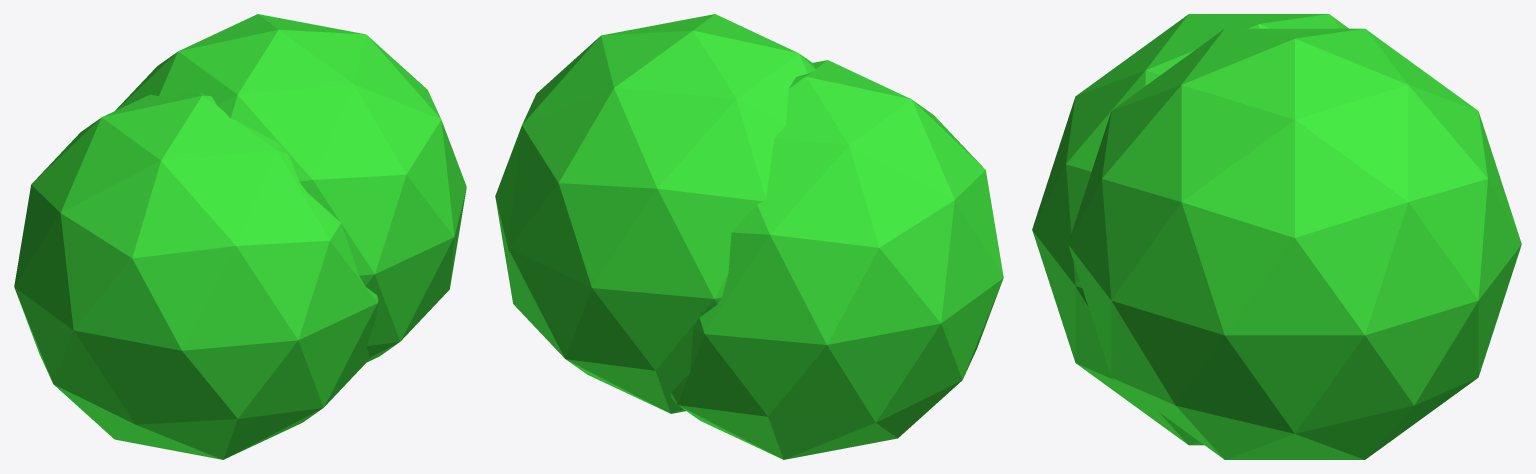
The model's file is bush.fbx.
3 views of the same model, side by side, from view 1: azimuth 30°, elevation 25°; view 2: azimuth 150°, elevation 25°; view 3: azimuth 270°, elevation 25° (orthographic). The views are drawn at different scales.
Parts seen in each view (by area): view 1: Bush.001; view 2: Bush.001; view 3: Bush.001.
Part boxes in pixels (x1=…): Bush.001: x1=14, y1=14, x2=466, y2=459; Bush.001: x1=495, y1=14, x2=1003, y2=459; Bush.001: x1=1032, y1=14, x2=1521, y2=459.
Bounding box in the file's own units: 570 × 648 × 578.
